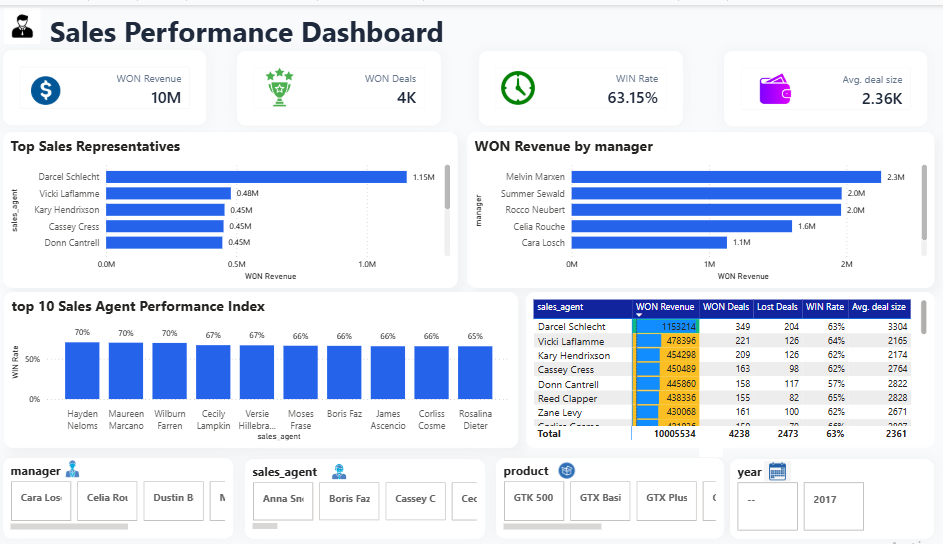

What the dashboard file says about the page in this screenshot:
{"tool":"powerbi","page":{"name":"Sales Performance","canvas":[1280,720],"ordinal":1},"visuals":[{"type":"textbox","box":[80.5,4.4,1198.5,65.9],"z":0},{"type":"cardVisual","fields":{"Data":["Measures (2).WON Revenue"]},"box":[24.3,60,270,100],"z":1000},{"type":"cardVisual","fields":{"Data":["Measures (2).WON Deals"]},"box":[334.3,61.4,271.4,98.6],"z":2000},{"type":"cardVisual","fields":{"Data":["Measures (2).WIN Rate"]},"box":[655.7,61.4,271.4,98.6],"z":3000},{"type":"cardVisual","fields":{"Data":["Measures (2).Avg. deal size"]},"box":[981.4,61.4,270,100],"z":4000},{"type":"image","box":[61.4,91.4,38.6,44.3],"z":5000},{"type":"image","box":[361.4,84.3,60,51.4],"z":6000},{"type":"image","box":[1017.1,87.1,64.3,47.1],"z":7000},{"type":"clusteredBarChart","fields":{"Y":["Measures (2).WON Revenue"],"Category":["Sales Team.manager"]},"box":[640,168.6,621.4,207.1],"z":8000},{"type":"clusteredBarChart","title":"Top Sales Representatives","fields":{"Category":["Sales Pipeline.sales_agent"],"Y":["Measures (2).WON Revenue"]},"box":[24.3,168.6,604.3,207.1],"z":9000},{"type":"clusteredColumnChart","title":"top 10 Sales Agent Performance Index","fields":{"Category":["Sales Pipeline.sales_agent"],"Y":["Measures (2).WIN Rate"]},"box":[25.2,381.3,682.8,207.2],"z":10000},{"type":"pivotTable","fields":{"Rows":["Sales Pipeline.sales_agent"],"Values":["Measures (2).WON Revenue","Measures (2).WON Deals","Measures (2).Lost Deals","Measures (2).WIN Rate","Measures (2).Avg. deal size"]},"box":[718.7,381.3,543.3,207.2],"z":11000},{"type":"advancedSlicerVisual","fields":{"Values":["Sales Team.manager"]},"box":[24.3,601.4,305.7,107.1],"z":12000},{"type":"image","box":[100,602.9,32.9,25.7],"z":13000},{"type":"advancedSlicerVisual","fields":{"Values":["Sales Pipeline.sales_agent"]},"box":[345.7,602.9,318.6,105.7],"z":14000},{"type":"image","box":[452.9,608.6,34.3,22.9],"z":15000},{"type":"advancedSlicerVisual","fields":{"Values":["Products.product"]},"box":[678.6,601.4,302.9,107.1],"z":16000},{"type":"image","box":[754.3,604.3,37.1,28.6],"z":17000},{"type":"advancedSlicerVisual","fields":{"Values":["date.year"]},"box":[990,602.9,271.4,105.7],"z":18000},{"type":"image","box":[1034.3,597.1,35.7,42.9],"z":19000},{"type":"image","box":[18.6,4,62.4,47.8],"z":20000},{"type":"image","box":[677.5,87.7,61.1,45.2],"z":21000}]}

Visuals, with their boxes in screenshot pixels (x1, y1, x2, y2), scaled from the page's 1280x720 canvas onto the 943x544 screenshot:
textbox: 59, 3, 942, 53
cardVisual - Measures (2).WON Revenue: 18, 45, 217, 121
cardVisual - Measures (2).WON Deals: 246, 46, 446, 121
cardVisual - Measures (2).WIN Rate: 483, 46, 683, 121
cardVisual - Measures (2).Avg. deal size: 723, 46, 922, 122
image: 45, 69, 74, 103
image: 266, 64, 310, 103
image: 749, 66, 797, 101
clusteredBarChart - Measures (2).WON Revenue x Sales Team.manager: 472, 127, 929, 284
"Top Sales Representatives" clusteredBarChart: 18, 127, 463, 284
"top 10 Sales Agent Performance Index" clusteredColumnChart: 19, 288, 522, 445
pivotTable - Sales Pipeline.sales_agent x Measures (2).WON Revenue: 529, 288, 930, 445
advancedSlicerVisual - Sales Team.manager: 18, 454, 243, 535
image: 74, 456, 98, 475
advancedSlicerVisual - Sales Pipeline.sales_agent: 255, 456, 489, 535
image: 334, 460, 359, 477
advancedSlicerVisual - Products.product: 500, 454, 723, 535
image: 556, 457, 583, 478
advancedSlicerVisual - date.year: 729, 456, 929, 535
image: 762, 451, 788, 484
image: 14, 3, 60, 39
image: 499, 66, 544, 100
